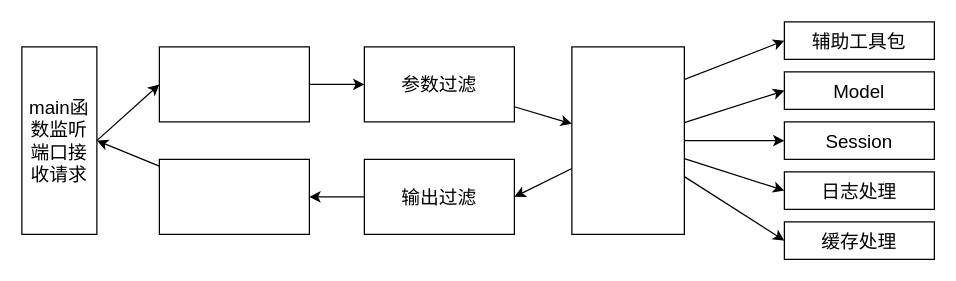
Image size: 956x281. Some labels were removed from this diagram. The shapes that lost their labels are listed below. From the top down, each one's centre as x and y in pixels, then its label:
point 233,84: 路由功能
point 627,140: Controller
point 233,196: 视图输出
